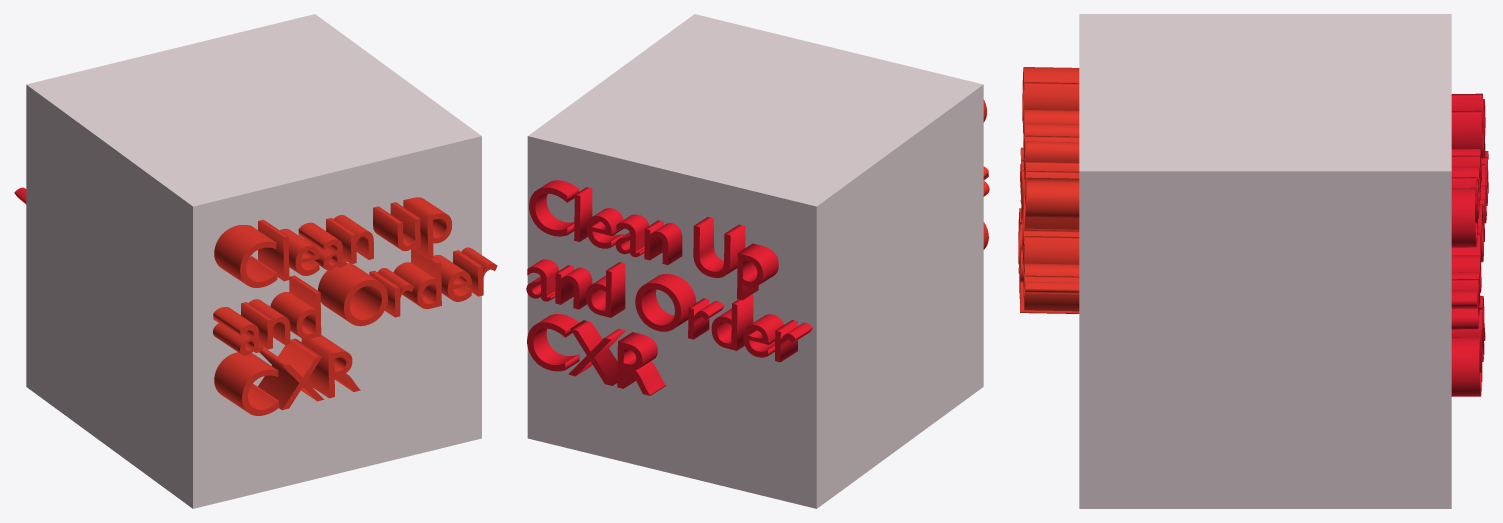
File: cleanandorderchestxr (1).glb
3 views of the same model, side by side, from view 1: azimuth 30°, elevation 25°; view 2: azimuth 150°, elevation 25°; view 3: azimuth 270°, elevation 25° (orthographic). The views are drawn at different scales.
Parts seen in each view (by area): view 1: Cube, Text.001; view 2: Cube, Text.002; view 3: Cube, Text.001, Text.002.
Boxes of the visible parts, x1,y1,x2,y2 form: Cube: [26, 14, 481, 508]; Text.001: [213, 197, 497, 415]; Cube: [527, 14, 983, 508]; Text.002: [526, 180, 812, 395]; Cube: [1079, 14, 1451, 508]; Text.001: [1018, 67, 1079, 313]; Text.002: [1451, 93, 1488, 396].
Bounding box in the file's own units: 2 × 2 × 2.53.
